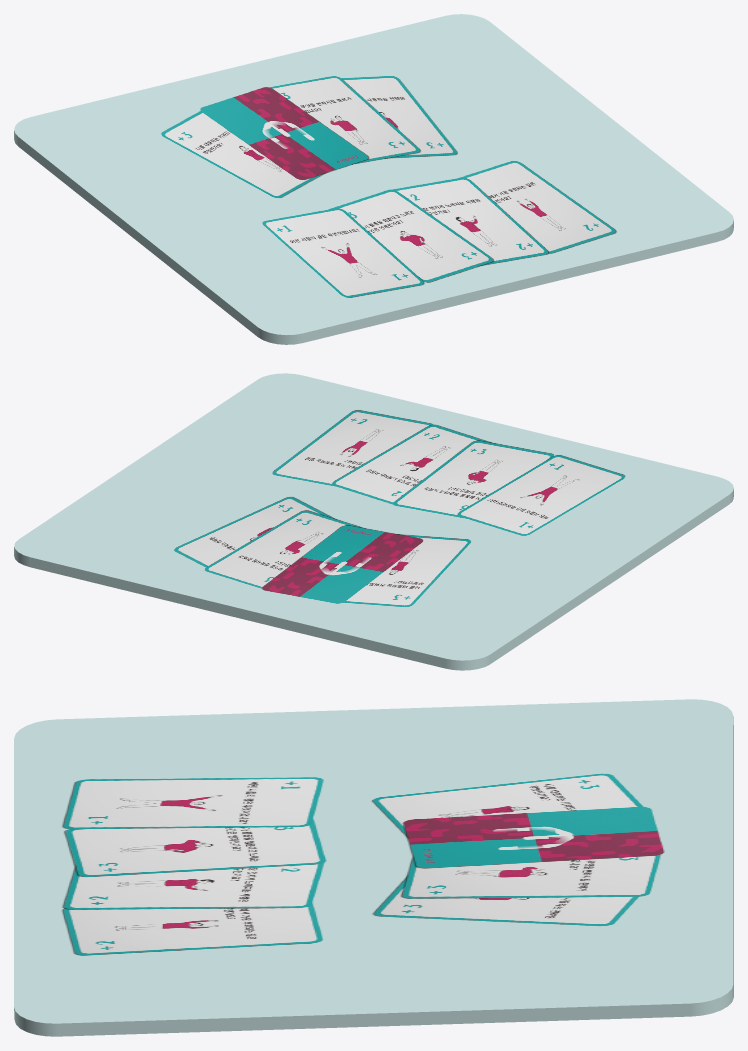
File: abab.gltf
3 views of the same model, one above another, from view 1: azimuth 30°, elevation 25°; view 2: azimuth 150°, elevation 25°; view 3: azimuth 270°, elevation 25° (orthographic). The views are drawn at different scales.
Parts seen in each view (by area): view 1: a; view 2: a; view 3: a.
Boxes of the visible parts, x1,y1,x2,y2 form: a: (14,14,733,344); a: (14,373,733,670); a: (14,699,733,1036).
Bounding box in the file's own units: 5.35 × 0.2934 × 5.35.
1 material, 1 textured.
